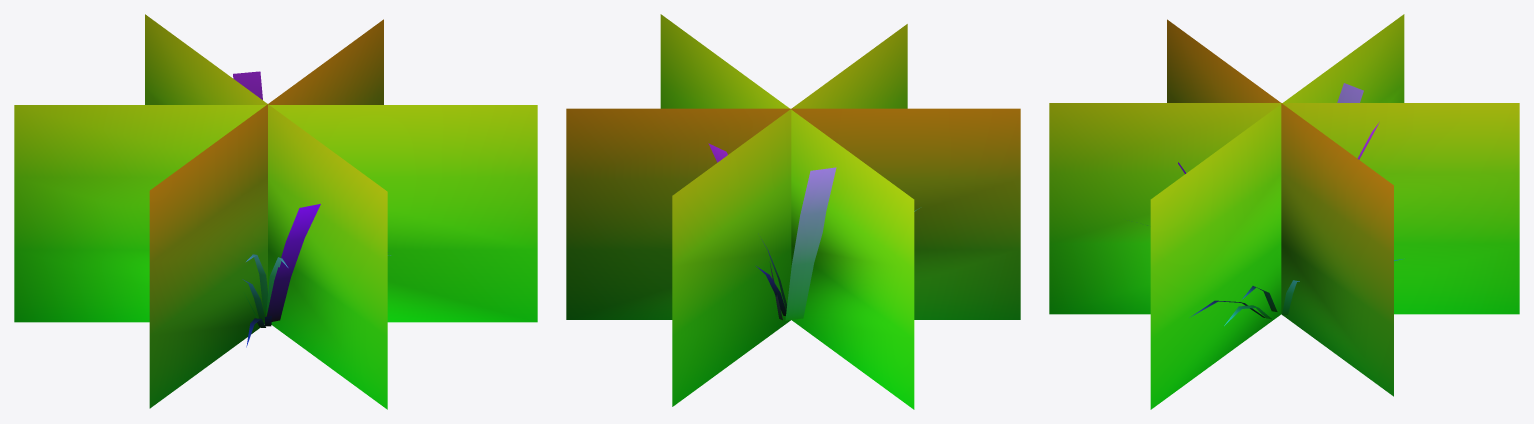
Rendered from Grass_DikeTuft_A.fbx.
3 renders of one model, left to right at view 1: azimuth 30°, elevation 25°; view 2: azimuth 150°, elevation 25°; view 3: azimuth 270°, elevation 25°, orthographic. The views are drawn at different scales.
Parts seen in each view (by area): view 1: Grass_DikeTuft_A_LOD0; view 2: Grass_DikeTuft_A_LOD0; view 3: Grass_DikeTuft_A_LOD0.
Part boxes in pixels (left/top/right/bottom): Grass_DikeTuft_A_LOD0: left=14, top=14, right=537, bottom=409; Grass_DikeTuft_A_LOD0: left=566, top=14, right=1020, bottom=409; Grass_DikeTuft_A_LOD0: left=1049, top=14, right=1519, bottom=409.
Size of what is drawn, in the model's own units: 0.5624 by 0.2988 by 0.603.
